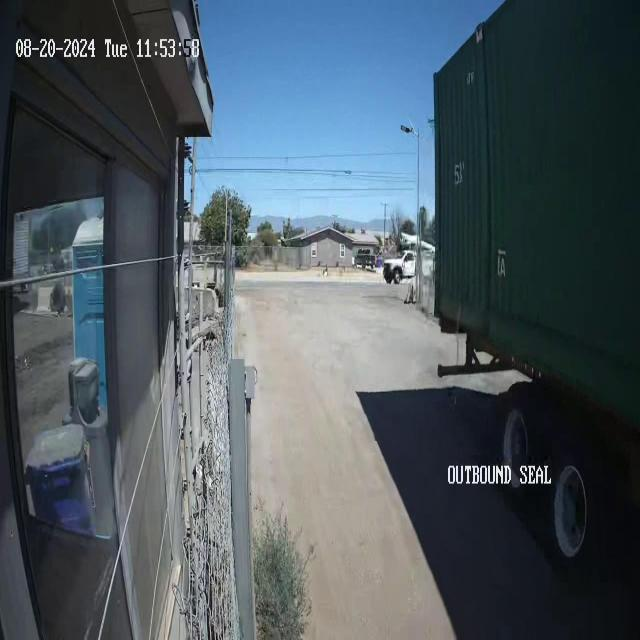TRUCK_IN: (431, 0, 640, 574)
